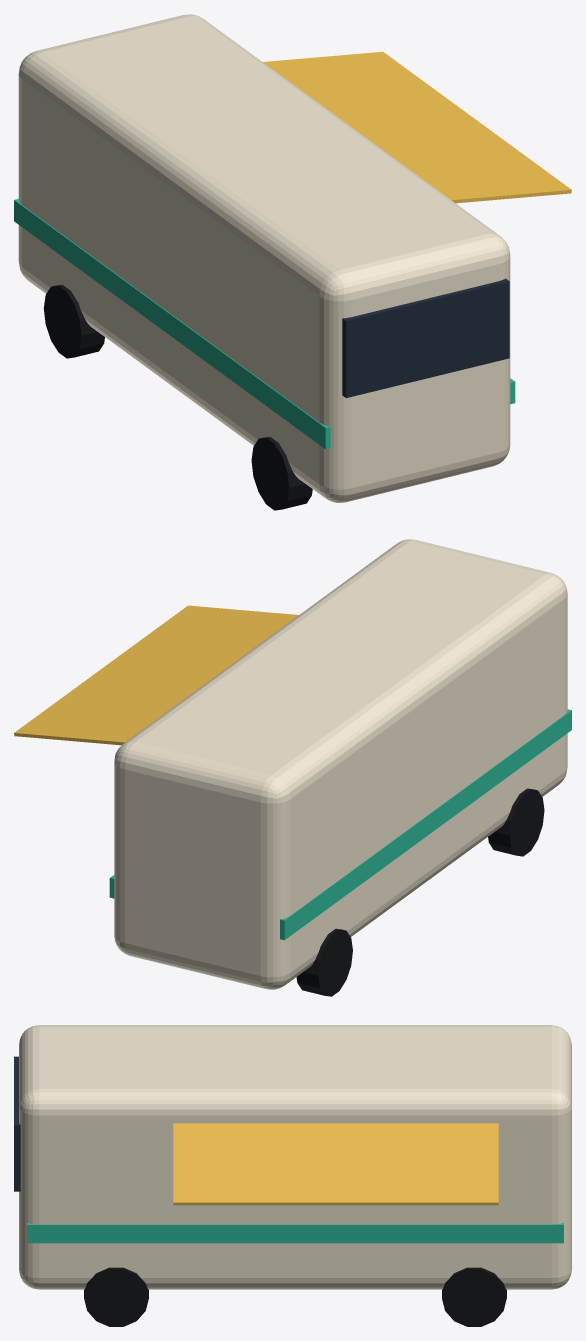
Rendered from campervan_c.glb.
The picture shows the model from 3 angles, top to bottom: view 1: azimuth 30°, elevation 25°; view 2: azimuth 150°, elevation 25°; view 3: azimuth 270°, elevation 25°; orthographic projection. The views are drawn at different scales.
Visible parts, largest first — view 1: camper; view 2: camper; view 3: camper.
Boxes of the visible parts, x1,y1,x2,y2 form: camper: [14, 14, 571, 510]; camper: [14, 539, 571, 996]; camper: [14, 1025, 571, 1326].
Bounding box in the file's own units: 4.09 × 3.09 × 6.86.
